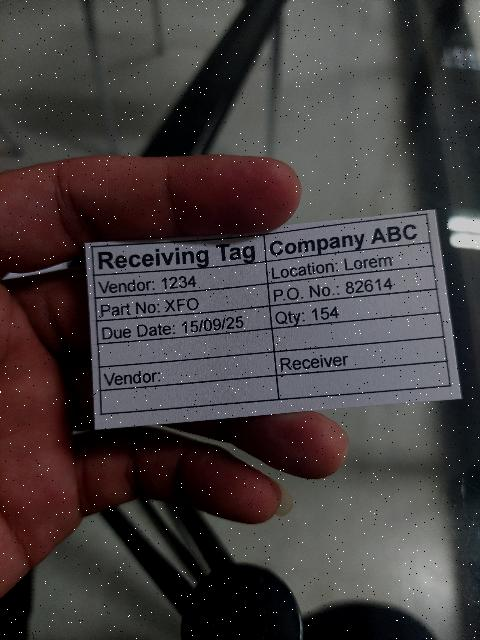PO no: (268, 265, 437, 306)
part no: (95, 284, 270, 322)
qty: (270, 289, 439, 329)
tags: (86, 210, 461, 430)
